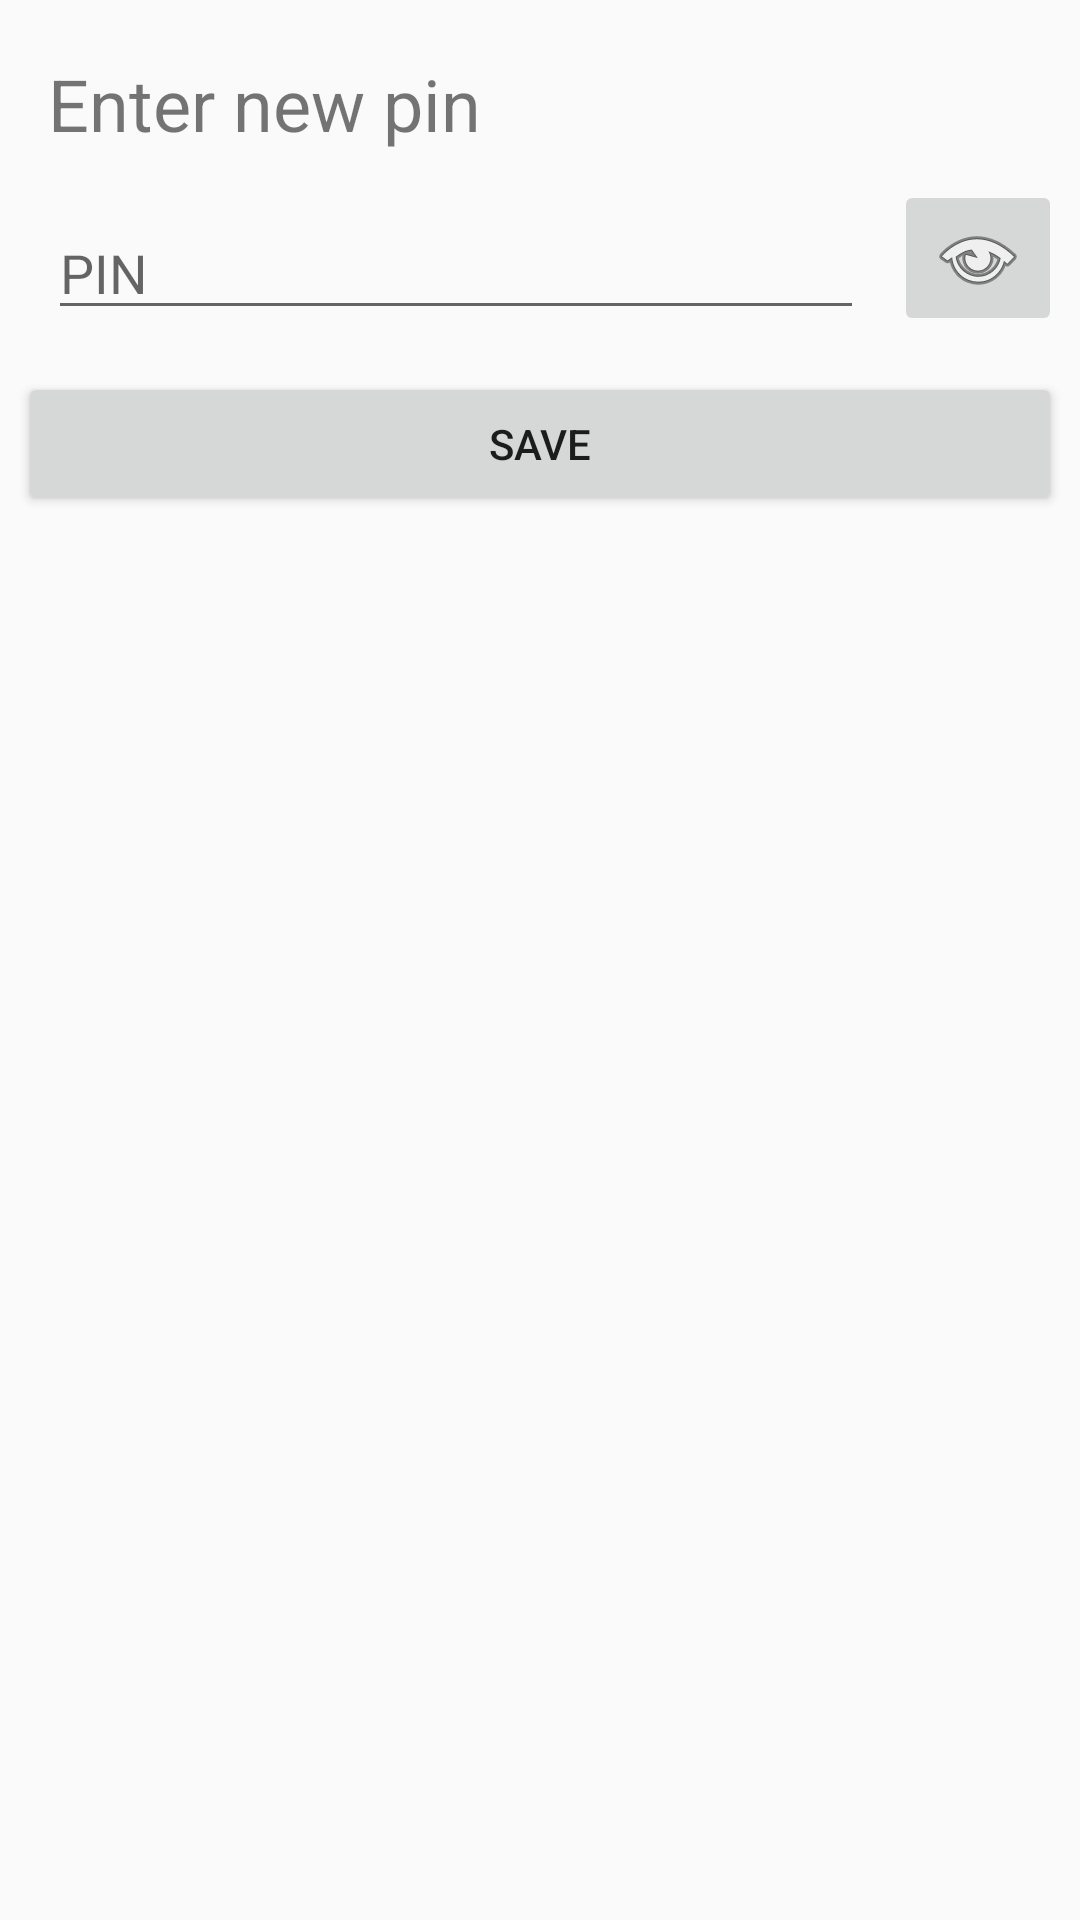

Icon bounding boxes for this 1080w x 1920h phone screenshot, format BBox(x1, y1, x2, y2):
view: BBox(906, 198, 1050, 318)
